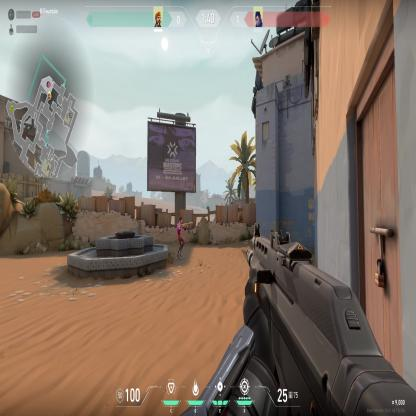enemy: (175, 214, 186, 262)
